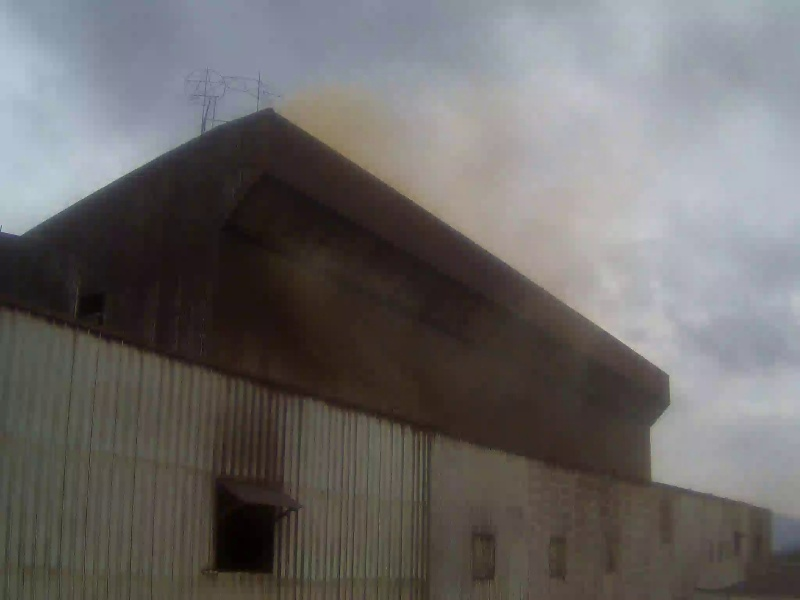ruim: (297, 70, 599, 322)
